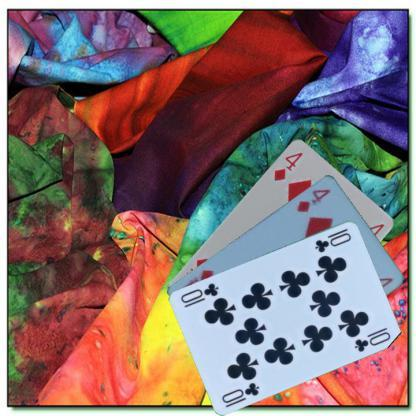10c: (219, 378, 261, 404), (312, 229, 353, 254)
4d: (271, 147, 304, 184), (294, 186, 332, 214)
